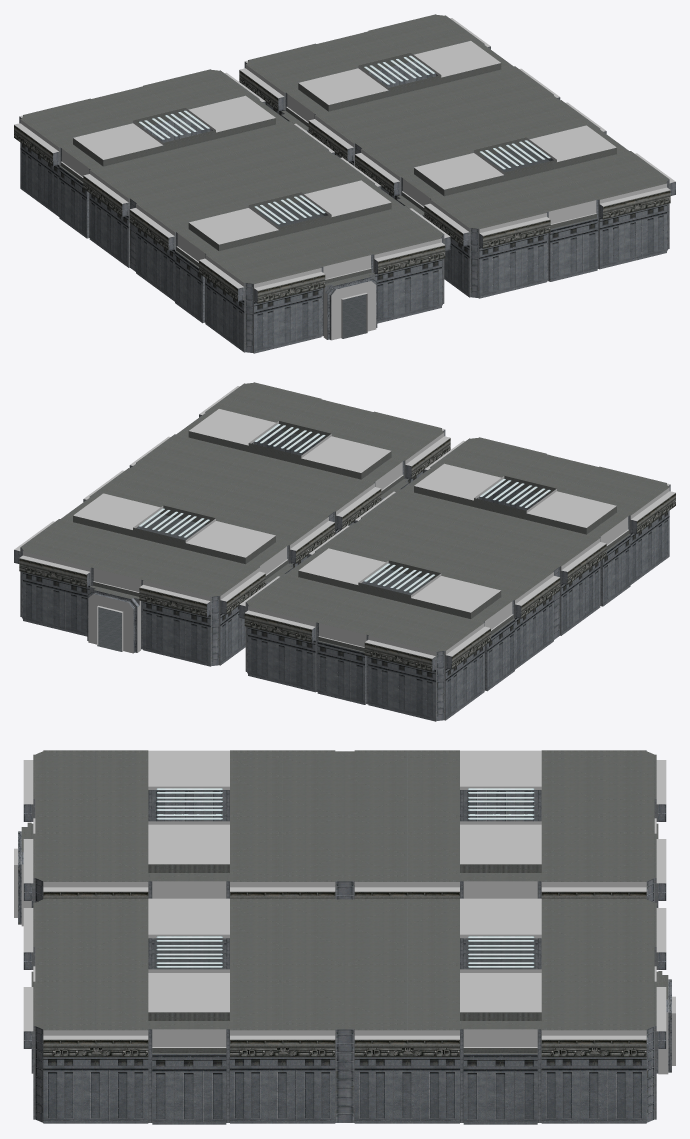
Rendered from poi_all_impl_bunker_warren_s01_r38_mediumroom38_mesh_r38.fbx.
3 renders of one model, top to bottom at view 1: azimuth 30°, elevation 25°; view 2: azimuth 150°, elevation 25°; view 3: azimuth 270°, elevation 25°, orthographic. The views are drawn at different scales.
Visible parts, largest first — view 1: mesh_node; view 2: mesh_node; view 3: mesh_node.
Part boxes in pixels (x1=…): mesh_node: x1=14, y1=14, x2=675, y2=353; mesh_node: x1=14, y1=382, x2=675, y2=721; mesh_node: x1=14, y1=750, x2=675, y2=1124.
Size of the model in its own units: 35 by 6 by 34.
